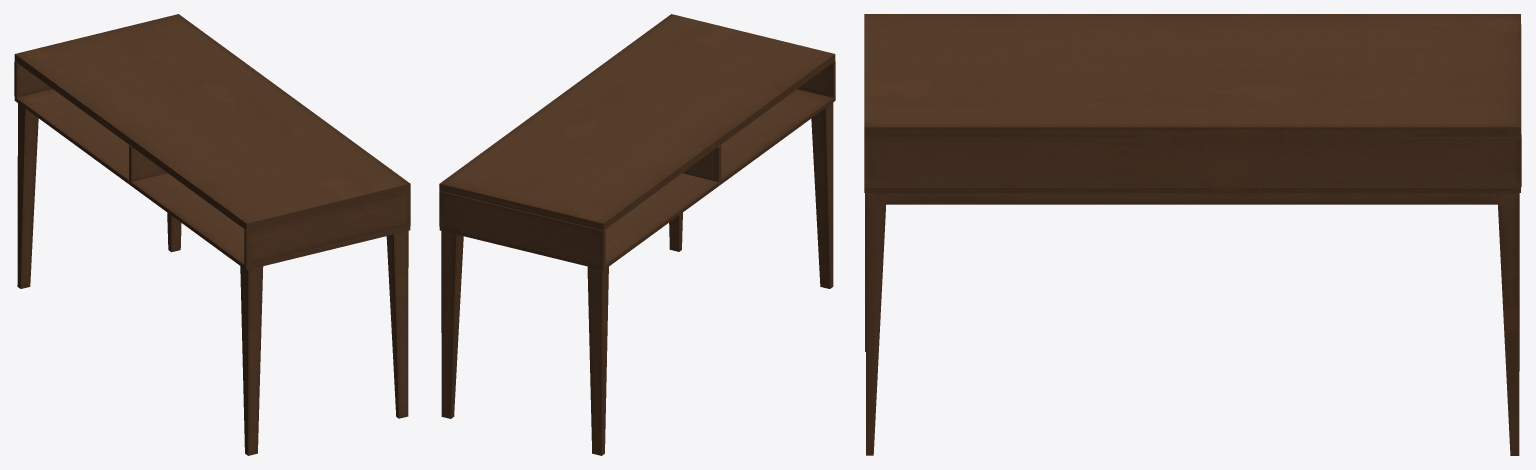
Rendered from SM_Table_A3.fbx.
The picture shows the model from 3 angles, left to right: view 1: azimuth 30°, elevation 25°; view 2: azimuth 150°, elevation 25°; view 3: azimuth 270°, elevation 25°; orthographic projection. The views are drawn at different scales.
Parts seen in each view (by area): view 1: SM_Table_A3; view 2: SM_Table_A3; view 3: SM_Table_A3.
Part boxes in pixels (x1,y1,x2,y2): SM_Table_A3: (14,14,410,455); SM_Table_A3: (439,14,835,455); SM_Table_A3: (864,14,1521,455).
Bounding box in the file's own units: 60 × 147 × 81.25.
1 material, 1 textured.
